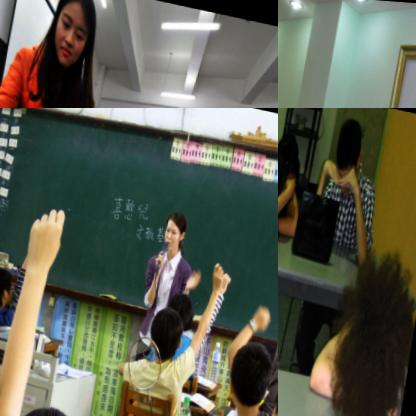head: (321, 235, 416, 416), (220, 323, 278, 415), (328, 108, 369, 190), (47, 0, 96, 65), (148, 298, 188, 360), (0, 394, 95, 416), (278, 121, 302, 204), (156, 201, 192, 255), (164, 279, 197, 332), (0, 259, 18, 315)
